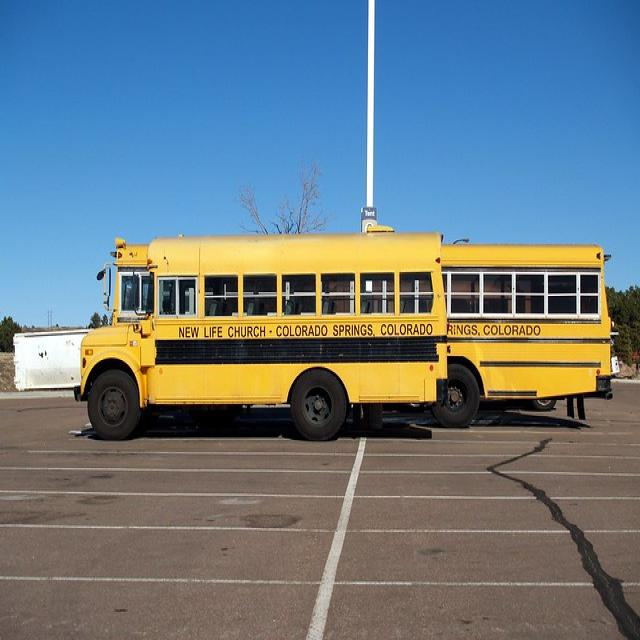Bus: (76, 217, 447, 439), (431, 242, 607, 422), (598, 330, 620, 394), (568, 396, 587, 420)
